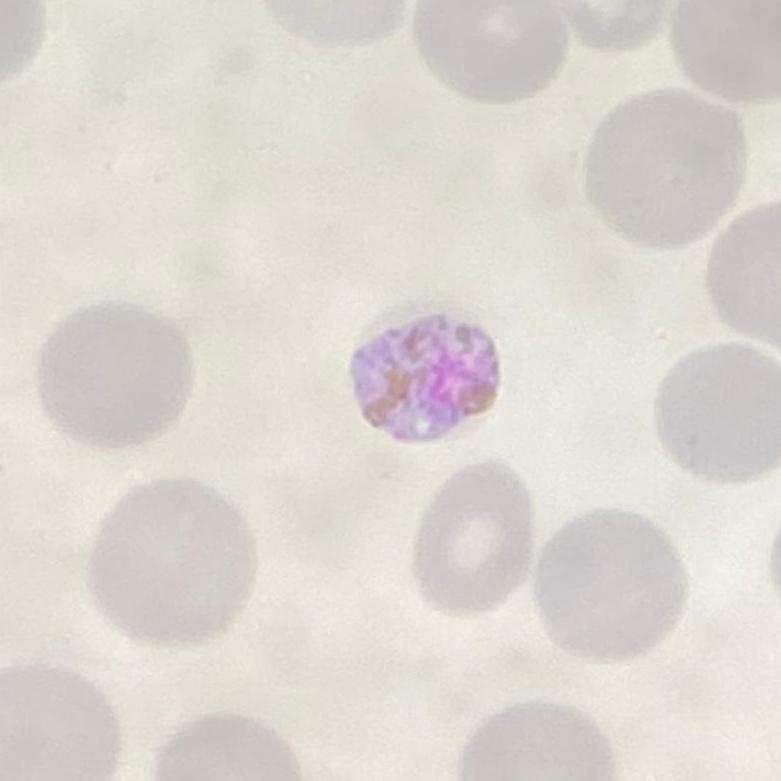Infected: (353, 299, 507, 447)
Uninfected: (90, 477, 261, 645), (583, 91, 750, 248), (537, 506, 689, 665), (40, 302, 198, 448), (413, 462, 531, 617), (657, 342, 781, 486)
